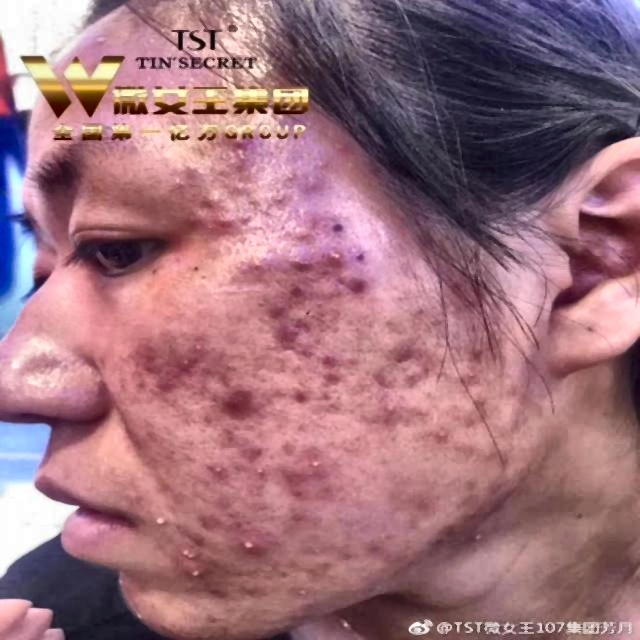papule: (167, 340, 216, 371), (240, 524, 284, 556), (199, 452, 242, 481), (172, 560, 210, 590), (209, 206, 244, 236), (142, 506, 185, 530), (150, 377, 190, 401), (220, 391, 258, 415), (354, 533, 384, 563), (242, 454, 271, 482), (331, 238, 358, 266), (295, 451, 324, 477), (274, 325, 304, 350), (280, 585, 324, 601), (394, 335, 422, 360), (322, 346, 349, 371), (402, 477, 424, 506), (266, 303, 292, 327), (318, 372, 345, 394), (291, 208, 322, 227), (342, 275, 373, 294), (384, 396, 407, 419), (298, 166, 318, 192), (172, 538, 198, 558), (293, 482, 316, 503), (291, 258, 313, 276)
